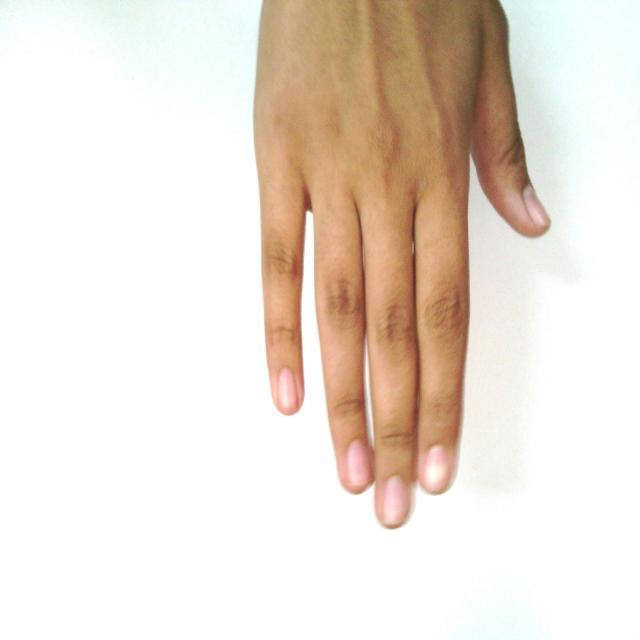Fingernail: (382, 477, 408, 524), (423, 446, 449, 492), (346, 442, 371, 487), (525, 186, 550, 225), (277, 368, 297, 411)
